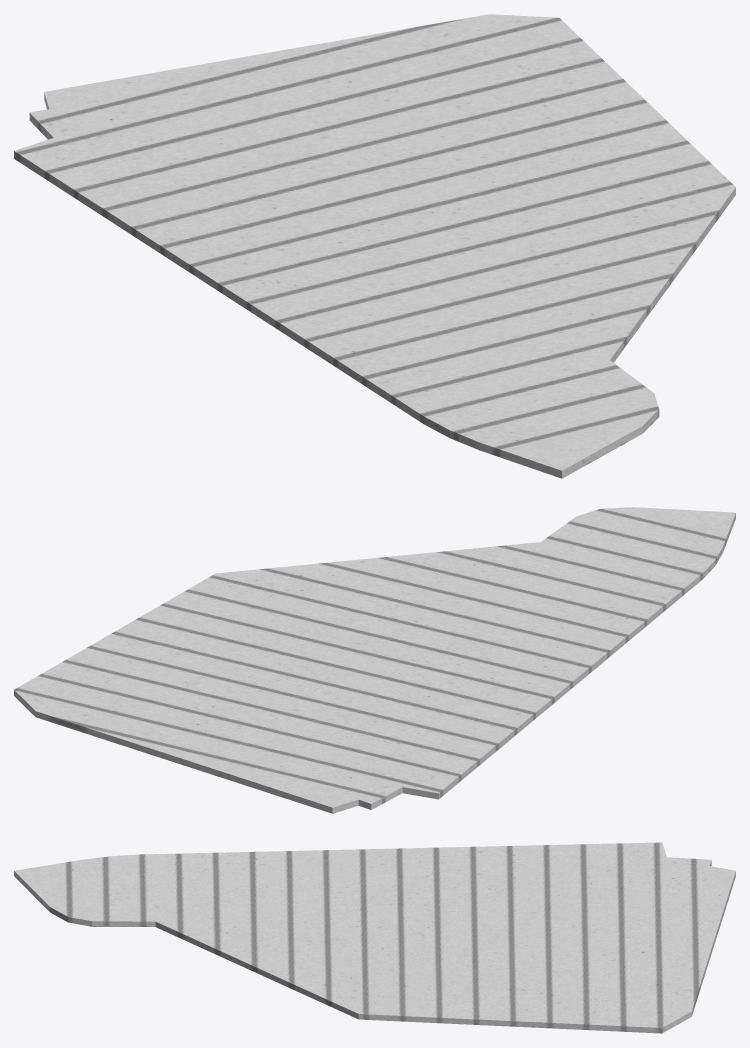
Rendered from Thorn paper.fbx.
The picture shows the model from 3 angles, top to bottom: view 1: azimuth 30°, elevation 25°; view 2: azimuth 150°, elevation 25°; view 3: azimuth 270°, elevation 25°; orthographic projection. The views are drawn at different scales.
Visible parts, largest first — view 1: Torn Paper; view 2: Torn Paper; view 3: Torn Paper.
Boxes of the visible parts, <box> form: Torn Paper: <box>14,14,735,478</box>; Torn Paper: <box>14,507,735,813</box>; Torn Paper: <box>14,842,735,1033</box>.
Bounding box in the file's own units: 11.48 × 0.1589 × 18.87.
